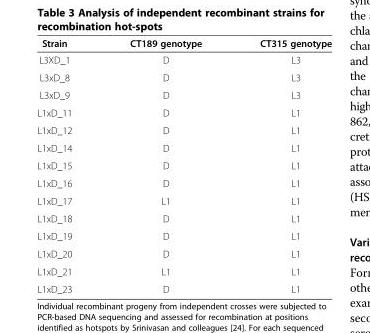table: (36, 37, 331, 294)
table column: (100, 37, 230, 294), (230, 37, 331, 294), (36, 37, 100, 294)
table column header: (36, 37, 331, 51)
table row: (36, 85, 331, 103), (36, 103, 331, 121), (36, 138, 331, 156), (36, 156, 331, 174), (36, 191, 331, 209), (36, 226, 331, 244), (36, 244, 331, 262), (36, 51, 331, 68), (36, 68, 331, 85), (36, 121, 331, 138), (36, 174, 331, 191), (36, 209, 331, 226), (36, 262, 331, 279), (36, 279, 331, 294), (36, 37, 331, 51)
